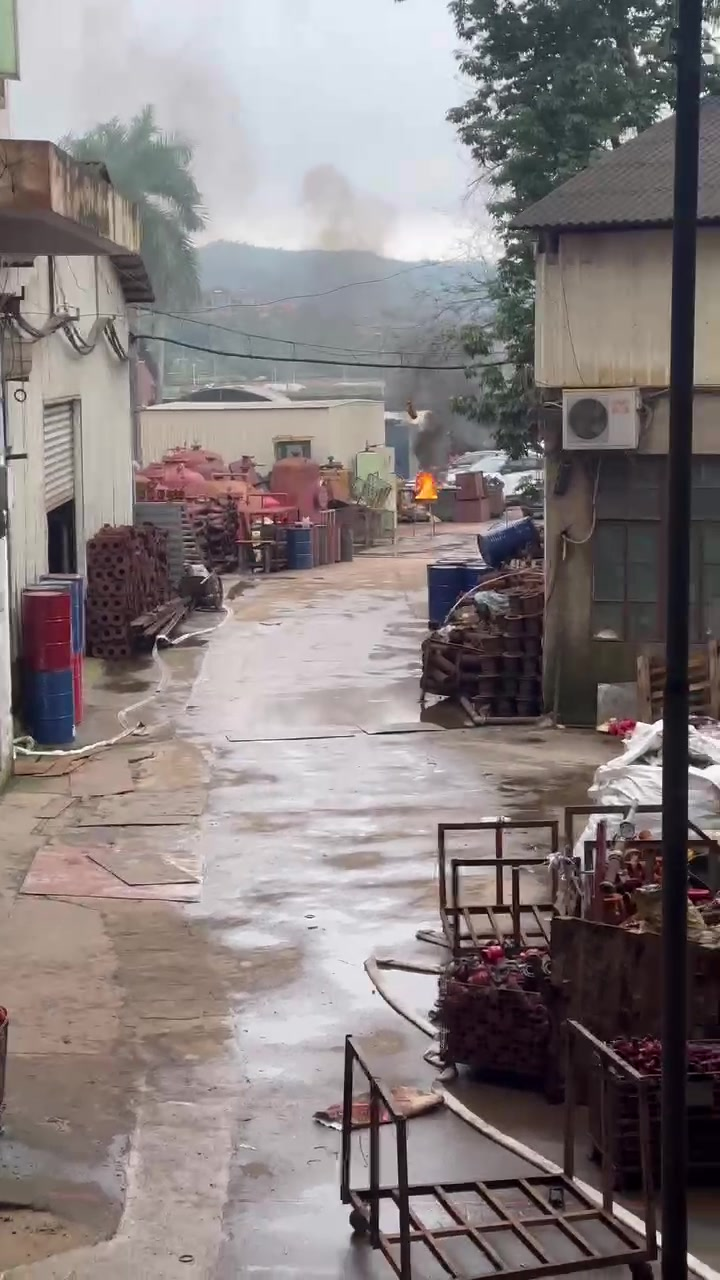fire: (414, 471, 438, 498)
